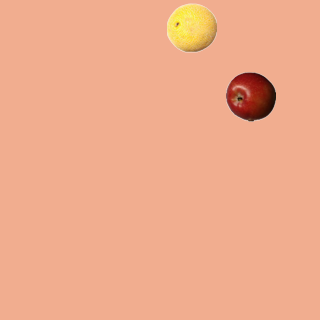Apple Braeburn: (225, 71, 275, 121)
Cantaloupe 1: (166, 2, 216, 52)
